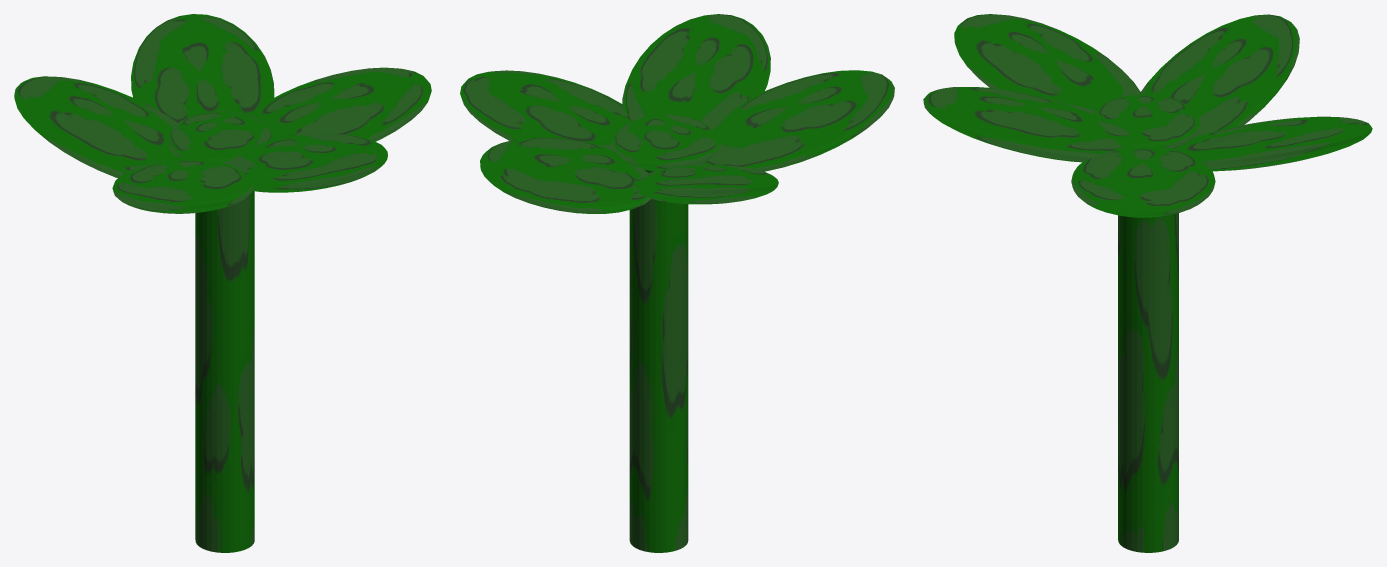
Rendered from item-flower-green.glb.
The picture shows the model from 3 angles, left to right: view 1: azimuth 30°, elevation 25°; view 2: azimuth 150°, elevation 25°; view 3: azimuth 270°, elevation 25°; orthographic projection. The views are drawn at different scales.
Size of the model in its own units: 1.3 by 1.54 by 1.36.
Materials: 1 (1 with a texture image).
